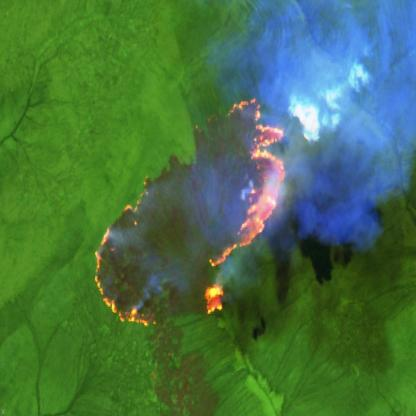fire: (93, 93, 289, 332)
